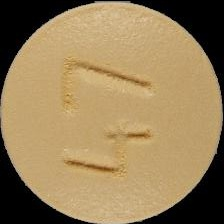51285-047: (0, 0, 224, 224)
